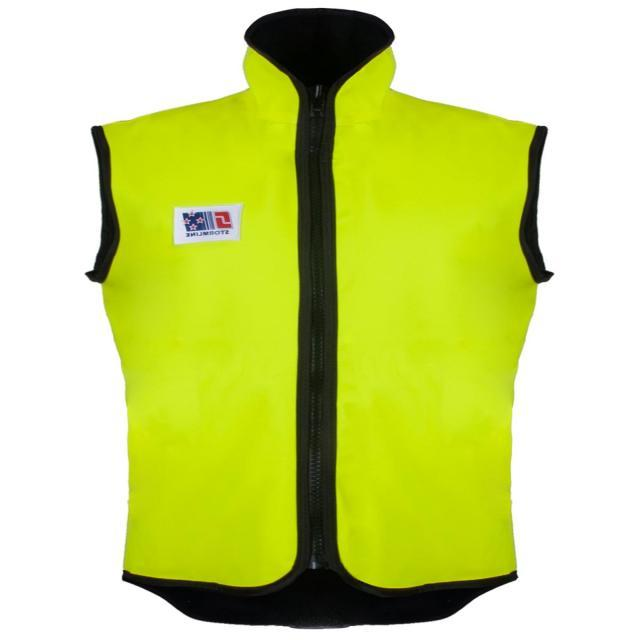reflective_jacket: (55, 24, 597, 628)
